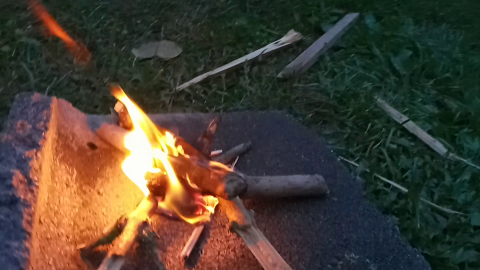fire: (75, 75, 245, 230)
